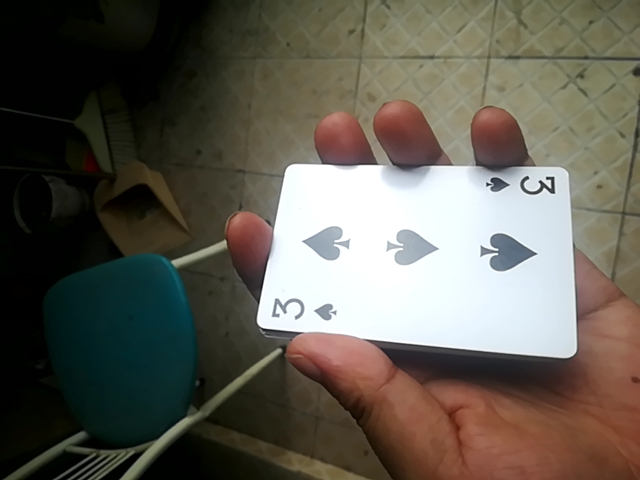ht 3: (252, 162, 573, 349)
